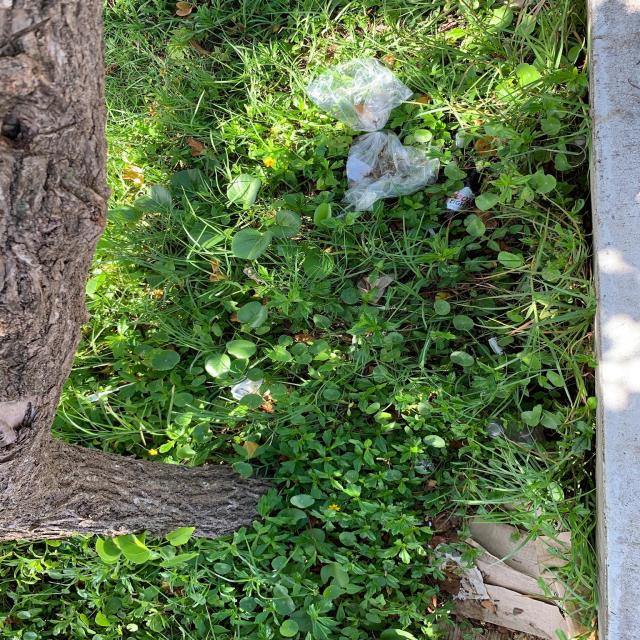litter: (425, 491, 596, 639), (301, 56, 442, 211), (432, 166, 485, 230), (228, 379, 265, 400)
